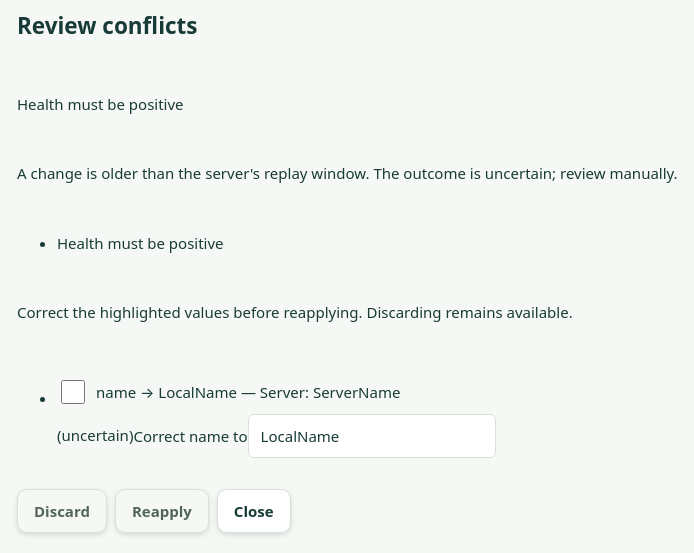
Scenario: ConflictReview › offers a correction path for invalid snapshots instead of a dead-end disabled reapply
This screenshot has width=694, height=553.
Click the checkbox at point(73, 392), box [61,380,85,404]
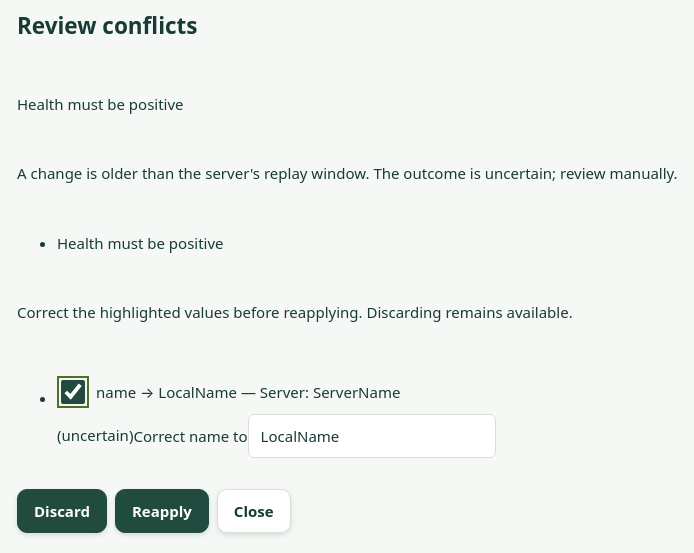
Expected: the text "Correct the highlighted" is shown, [17,302,573,322]
Result: the button "Reapply" is enabled at [115,489,209,533]
Result: the button "Discard" is enabled at [17,489,107,533]
